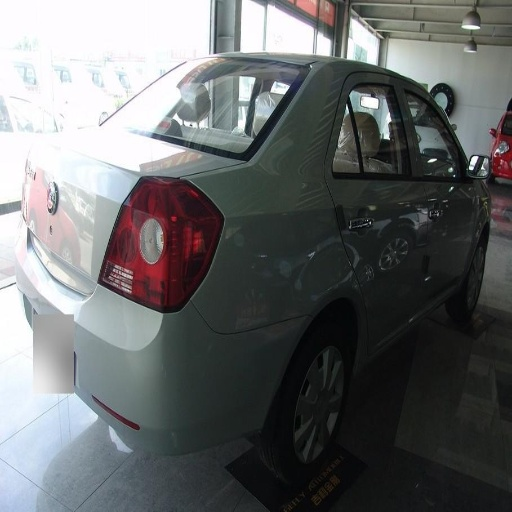back_bumper: (32, 278, 308, 464)
back_left_light: (99, 237, 168, 309)
back_right_door: (328, 71, 429, 347)
tailgate: (57, 130, 175, 241)
